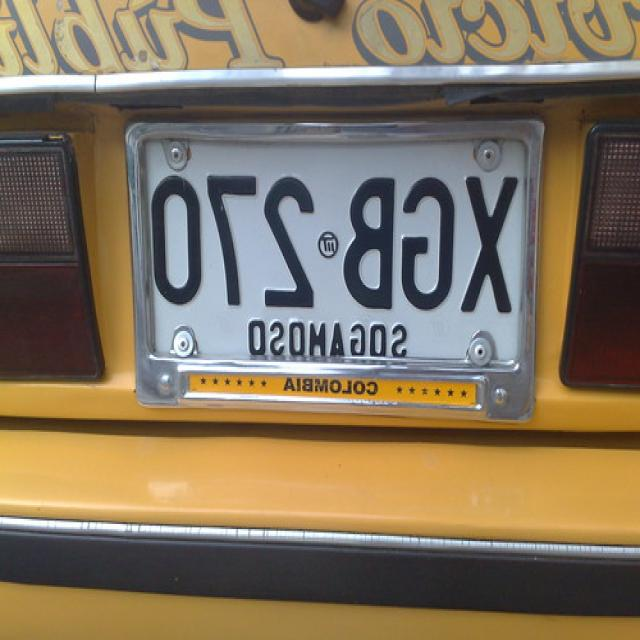placas: (129, 154, 525, 325)
